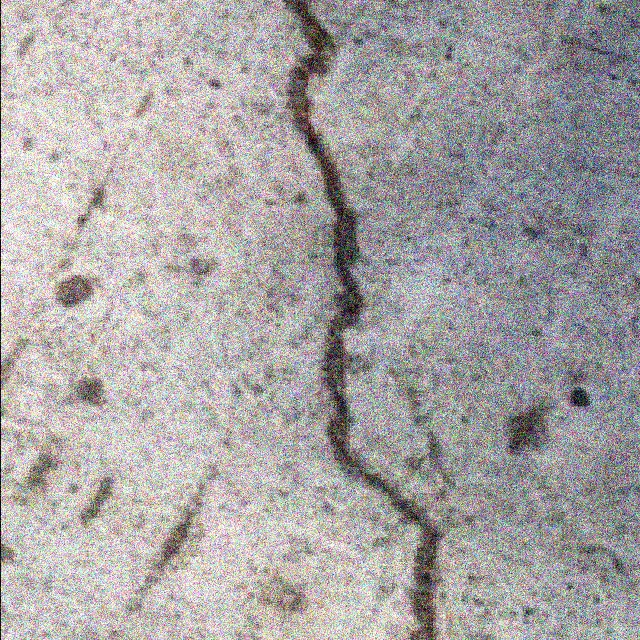SurfaceCrack: (274, 0, 466, 640)
